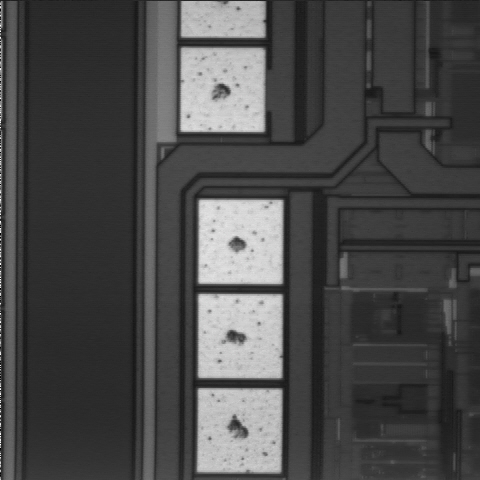pad: (181, 48, 264, 132), (199, 200, 282, 284), (199, 294, 282, 378), (197, 389, 281, 472)
